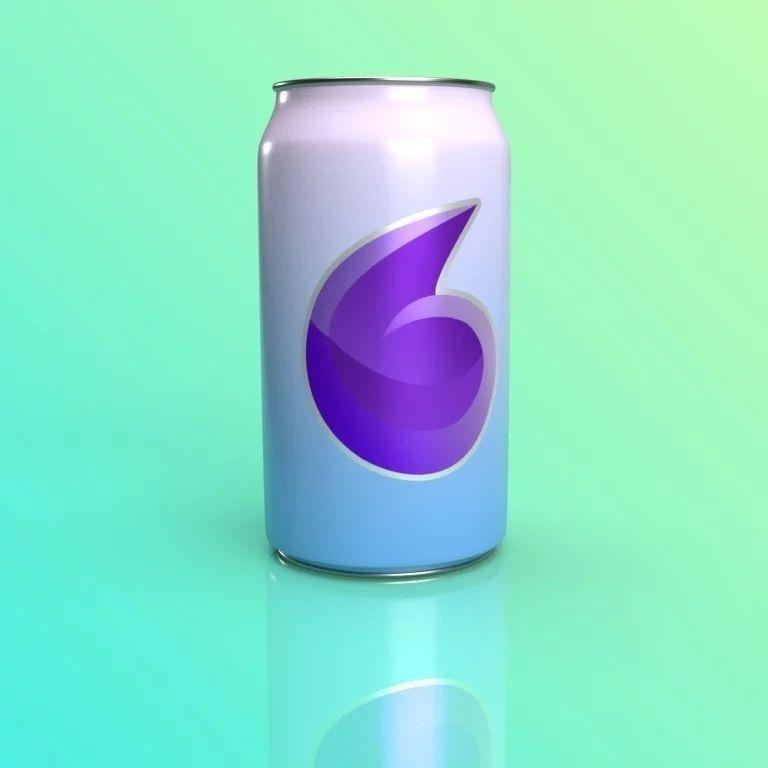tin can: (247, 60, 529, 587)
